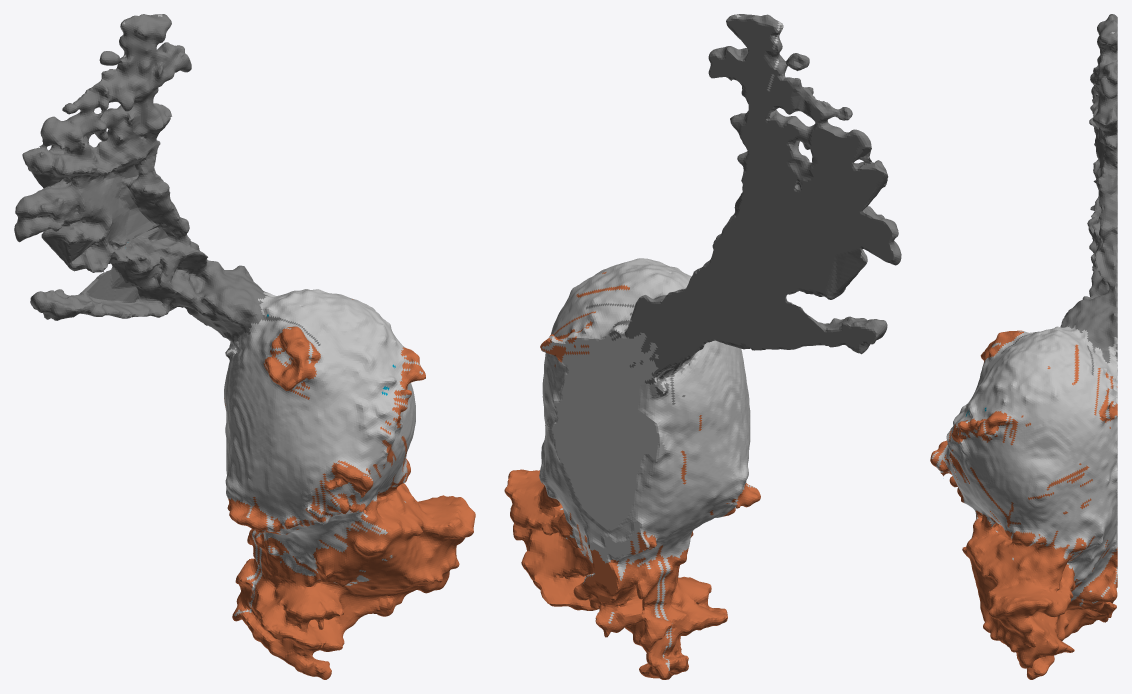
3 views of the same model, side by side, from view 1: azimuth 30°, elevation 25°; view 2: azimuth 150°, elevation 25°; view 3: azimuth 270°, elevation 25° (orthographic). The views are drawn at different scales.
Bounding box in the file's own units: 179 × 283 × 80.03.
